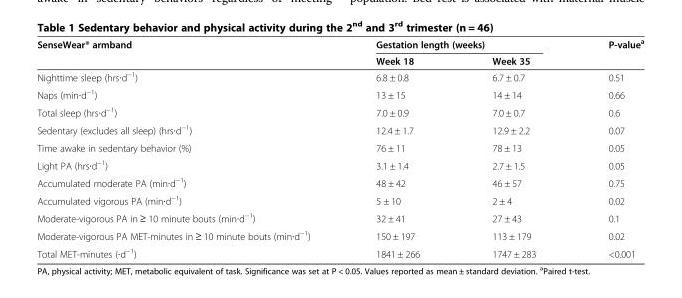table: (36, 36, 643, 259)
table column: (36, 36, 342, 259), (455, 36, 571, 259), (342, 36, 455, 259), (571, 36, 643, 259)
table column header: (36, 36, 643, 67)
table row: (36, 67, 643, 85), (36, 102, 643, 120), (36, 120, 643, 138), (36, 155, 643, 173), (36, 190, 643, 208), (36, 208, 643, 226), (36, 85, 643, 102), (36, 138, 643, 155), (36, 173, 643, 190), (36, 226, 643, 243), (36, 36, 643, 52), (36, 243, 643, 259), (36, 52, 643, 67)
table spanning cell: (36, 36, 342, 67), (342, 36, 571, 52), (571, 36, 643, 67)
